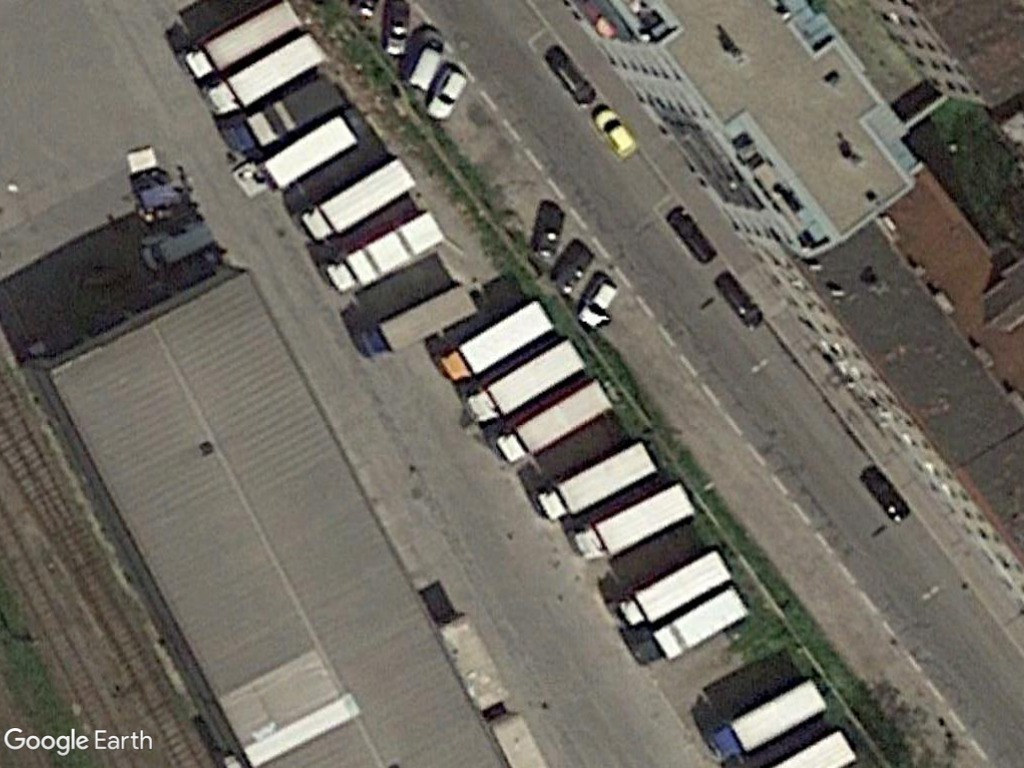car: (417, 60, 474, 127), (590, 101, 643, 163), (570, 270, 617, 334)
truck: (319, 205, 451, 298), (353, 275, 484, 368), (529, 437, 664, 526), (438, 292, 562, 388), (203, 26, 329, 120), (461, 334, 587, 428), (292, 156, 417, 250), (488, 375, 614, 468), (564, 478, 697, 565), (703, 678, 831, 765), (626, 583, 757, 668), (610, 547, 736, 634), (179, 0, 306, 84), (220, 72, 345, 157)
van: (403, 21, 445, 102)
